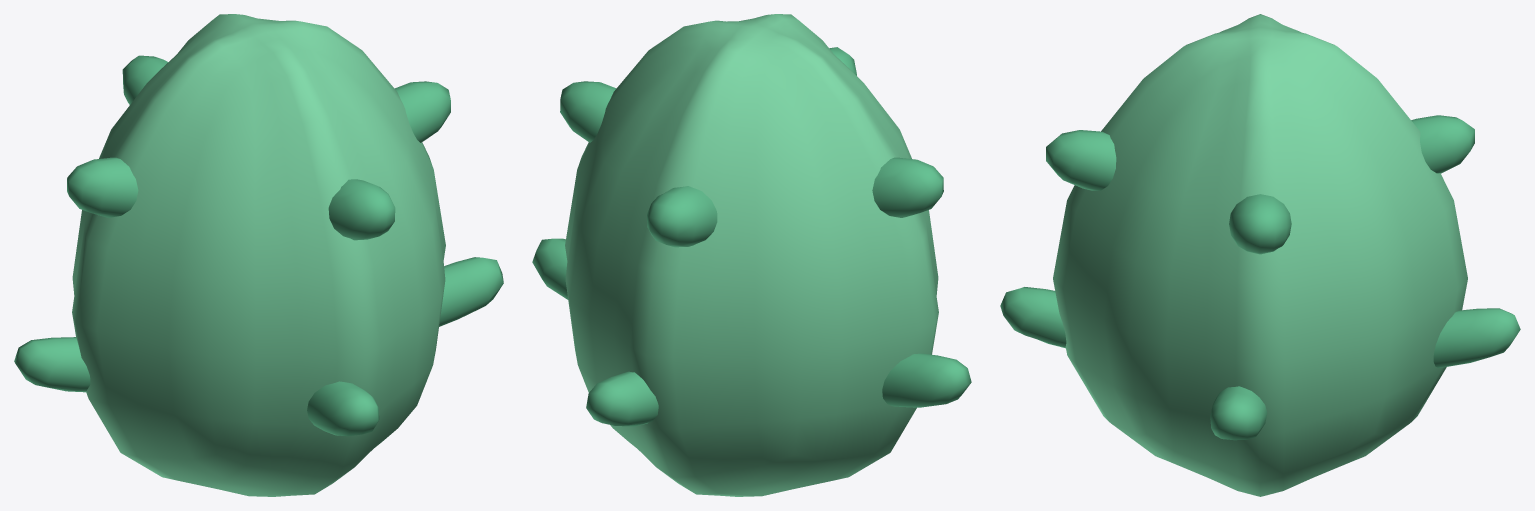
Rendered from Cactus_B_03.fbx.
3 views of the same model, side by side, from view 1: azimuth 30°, elevation 25°; view 2: azimuth 150°, elevation 25°; view 3: azimuth 270°, elevation 25° (orthographic).
Parts seen in each view (by area): view 1: Cactus_B_03_LOD0; view 2: Cactus_B_03_LOD0; view 3: Cactus_B_03_LOD0.
Boxes of the visible parts, x1,y1,x2,y2 form: Cactus_B_03_LOD0: (14,14,503,496); Cactus_B_03_LOD0: (532,14,971,496); Cactus_B_03_LOD0: (1000,14,1520,496).
Size of what is drawn, in the model's own units: 507 by 492 by 507.
